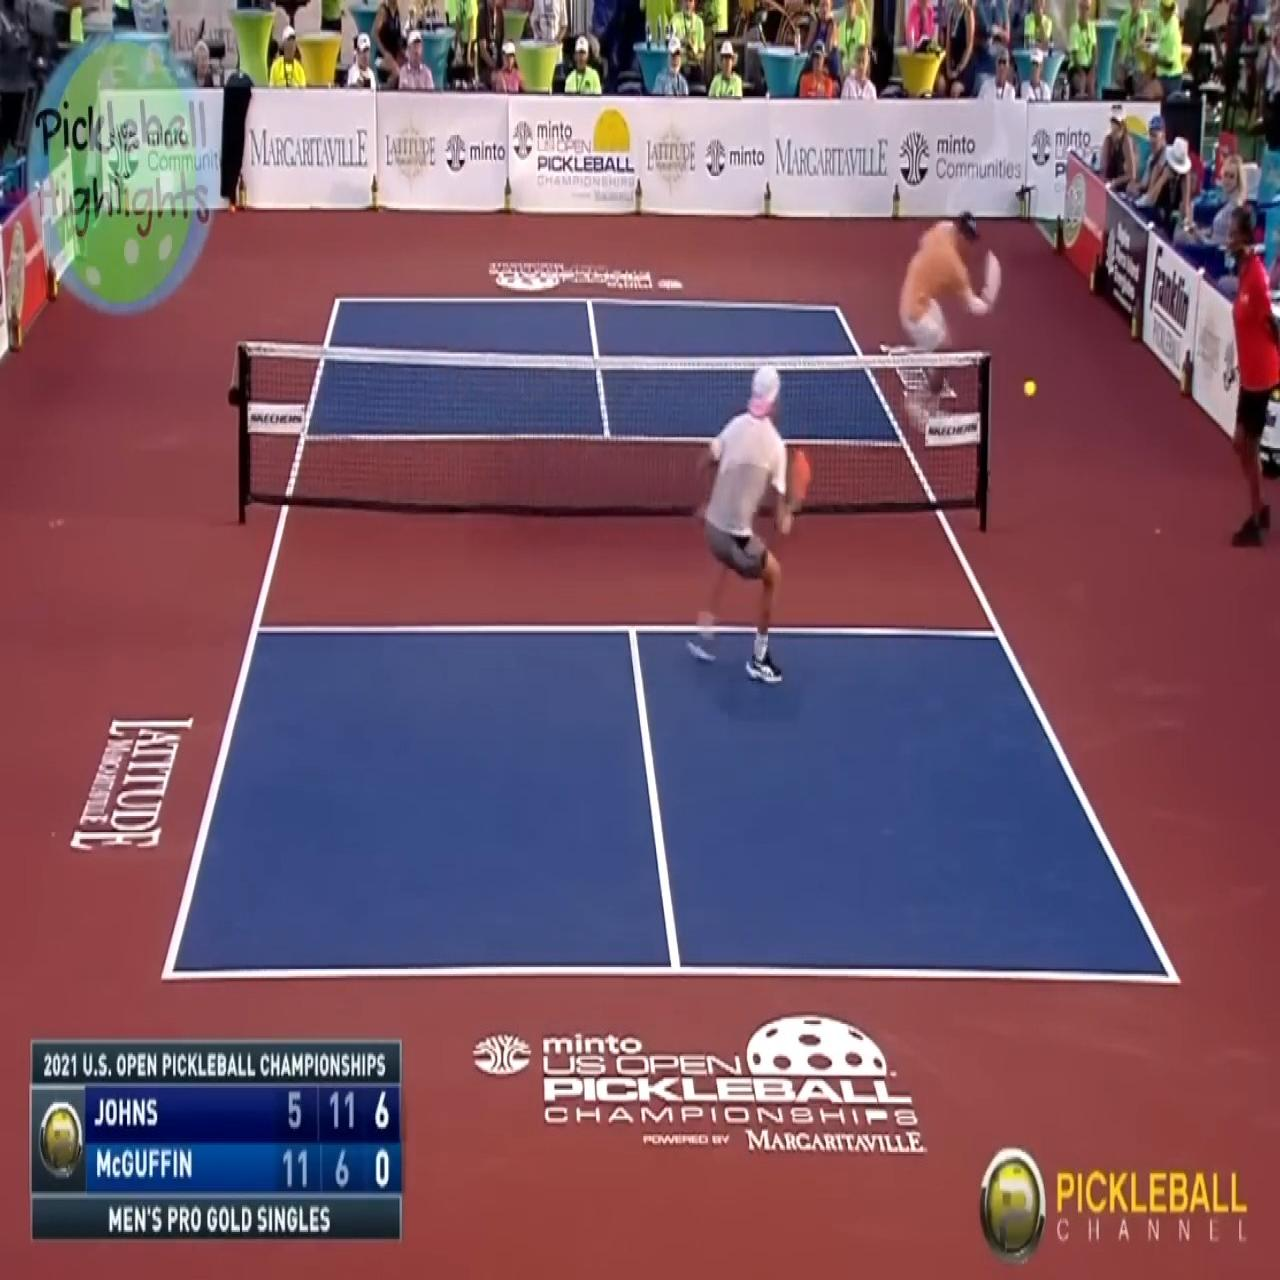pickleball: (1023, 379, 1037, 396)
